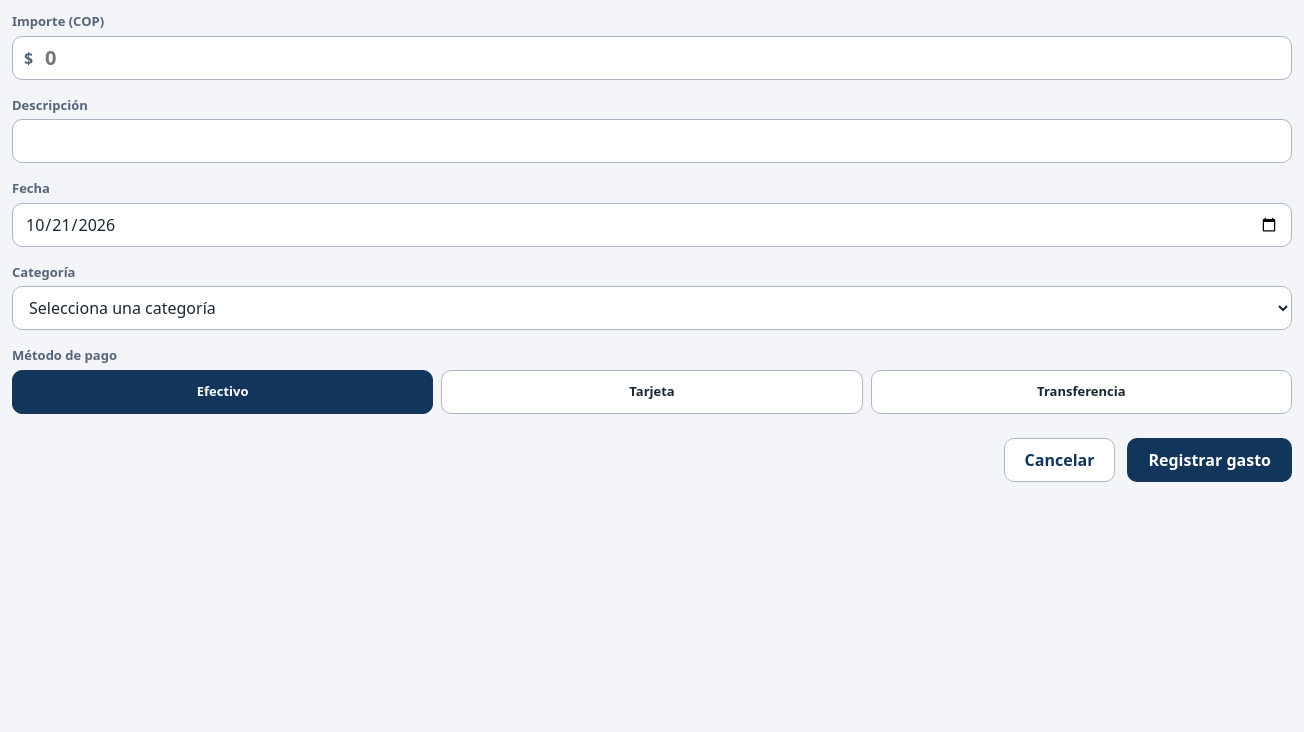
Test: validates required fields on submit
This screenshot has width=1304, height=732.
What coordinates should you click on to do the following:
click the button "Registrar gasto"
I would click on:
 (1210, 460)
Its box is [1128,438,1292,482].
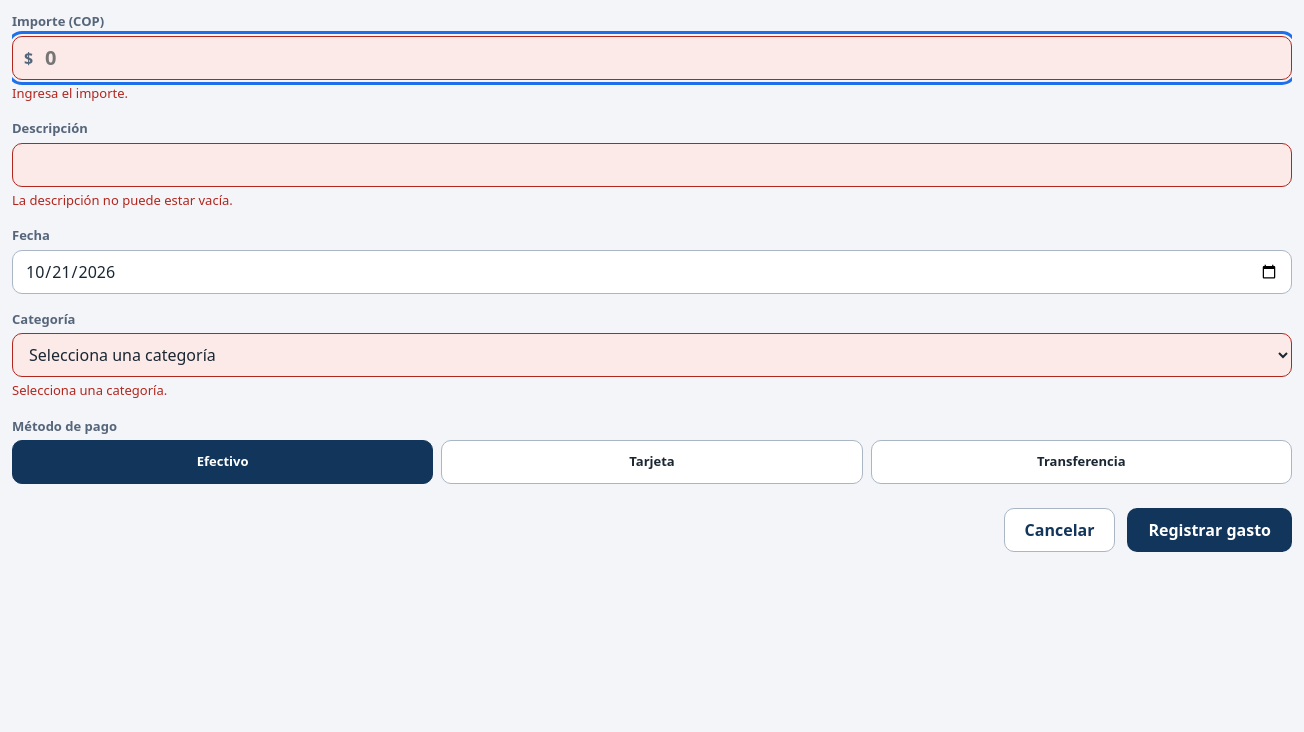
Expected: the text "Ingresa el importe." is shown, [12,84,128,102]
Expected: the text "La descripción no puede estar vacía." is shown, [12,190,233,208]
Expected: the text "Selecciona una categoría." is shown, [12,381,167,399]
